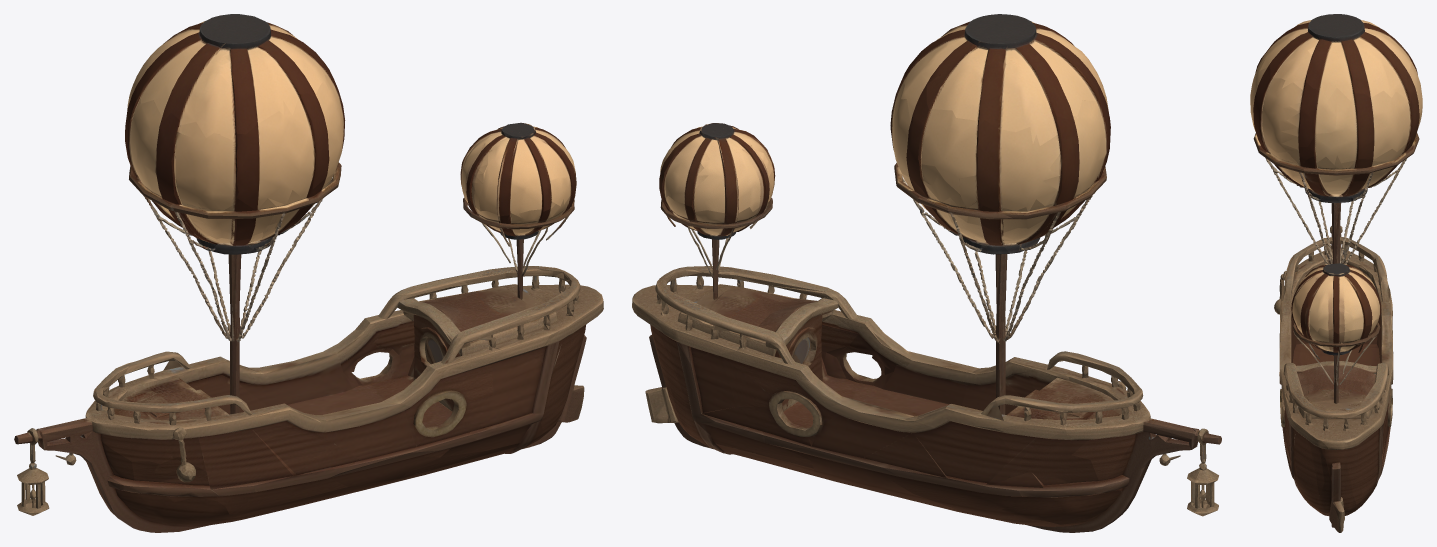
3 views of the same model, side by side, from view 1: azimuth 30°, elevation 25°; view 2: azimuth 150°, elevation 25°; view 3: azimuth 270°, elevation 25° (orthographic). The views are drawn at different scales.
Visible parts, largest first — view 1: Mesh_0; view 2: Mesh_0; view 3: Mesh_0.
Boxes of the visible parts, bbox=[...] form: Mesh_0: bbox=[14, 14, 603, 532]; Mesh_0: bbox=[632, 14, 1221, 532]; Mesh_0: bbox=[1250, 14, 1422, 532].
Bounding box in the file's own units: 1.9 × 1.52 × 0.6169.
1 material, 1 textured.
